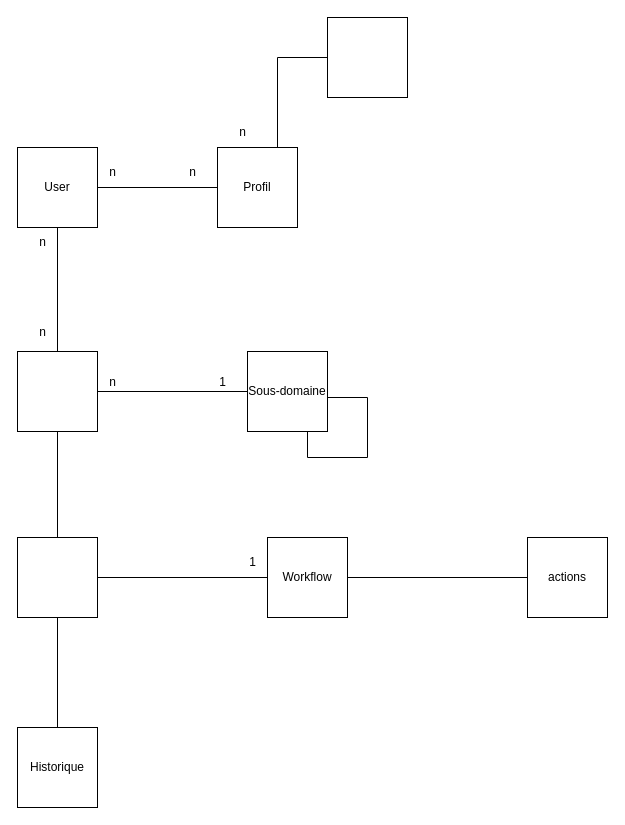
Image size: 625x825. Some labels were removed from this diagram. Each missing label, with the centre of its shape:
"Demande" belongs at pixel 57 577.
"permissions" belongs at pixel 367 57.
"Projet" belongs at pixel 57 391.
